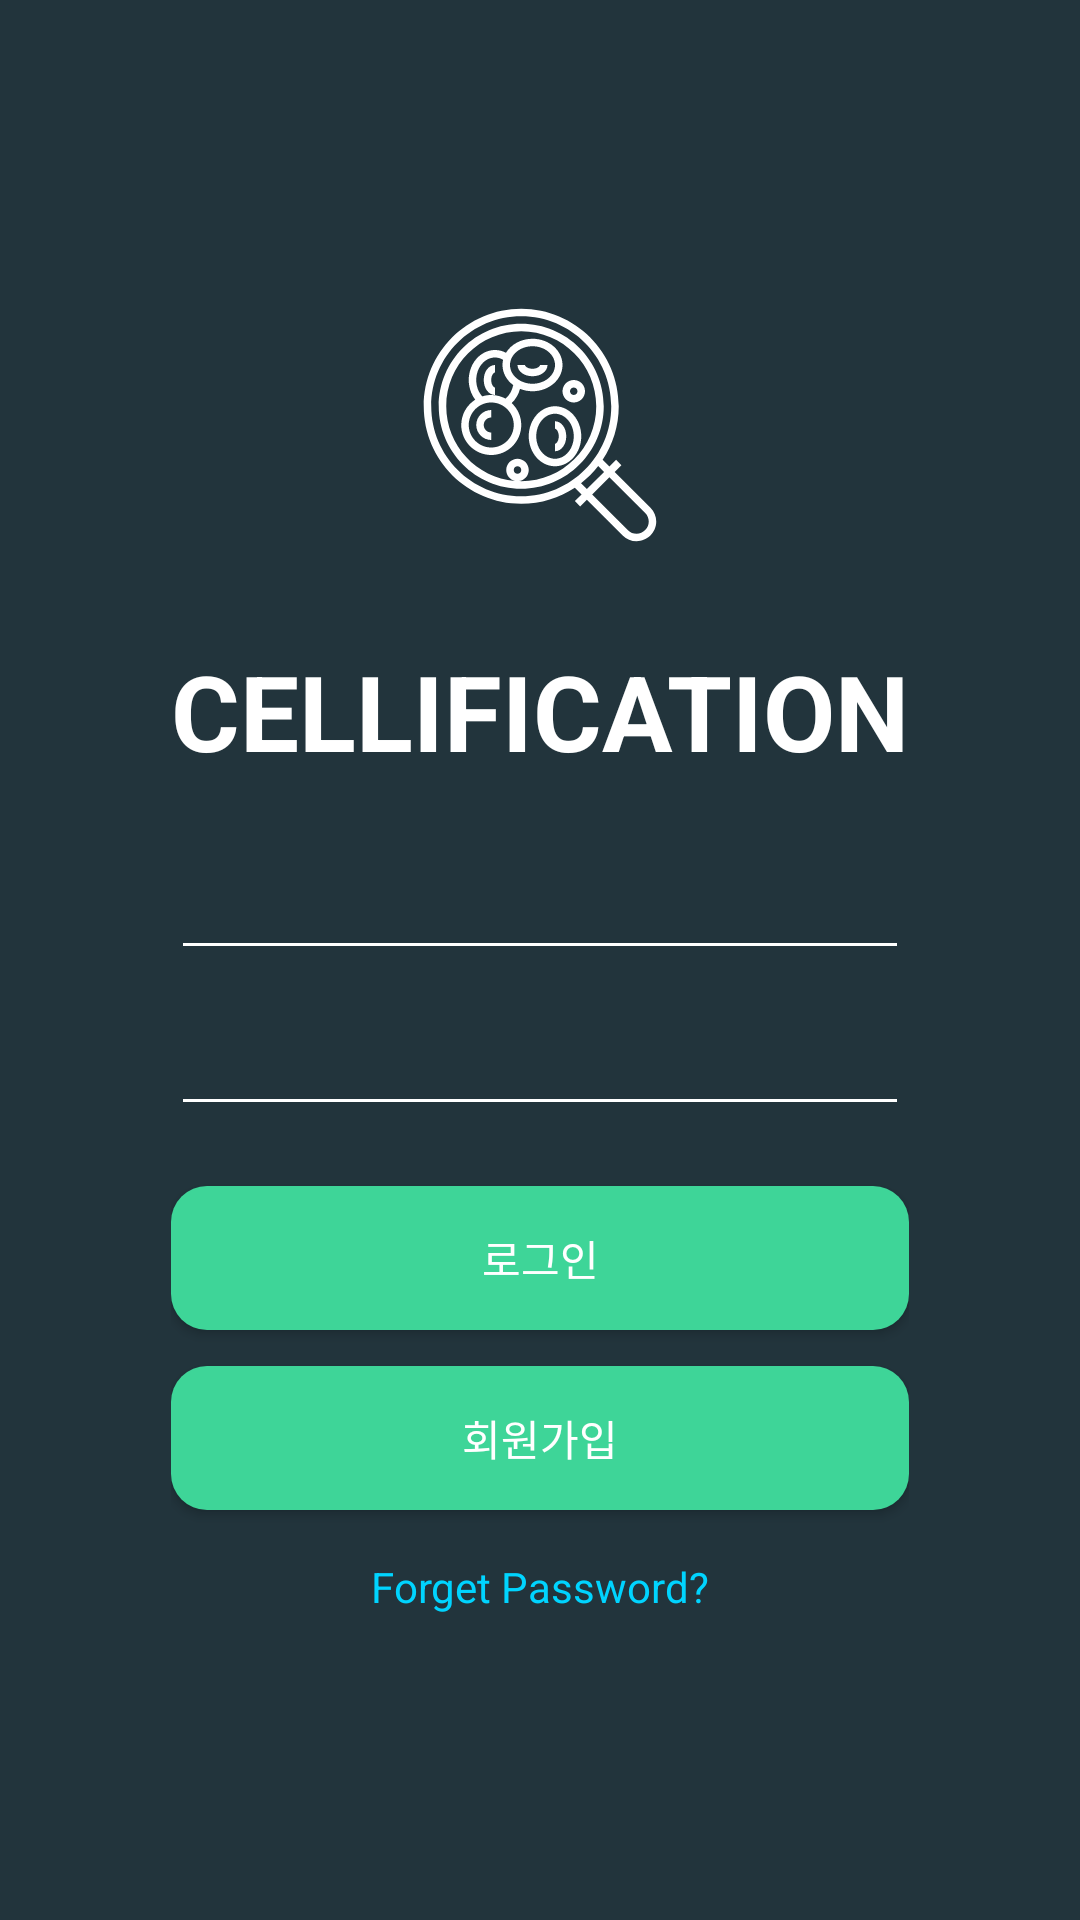

Screen size 1080 × 1920. Icon name, then its center in pixels as point (x, y):
loadingcellimage: point (540, 425)
